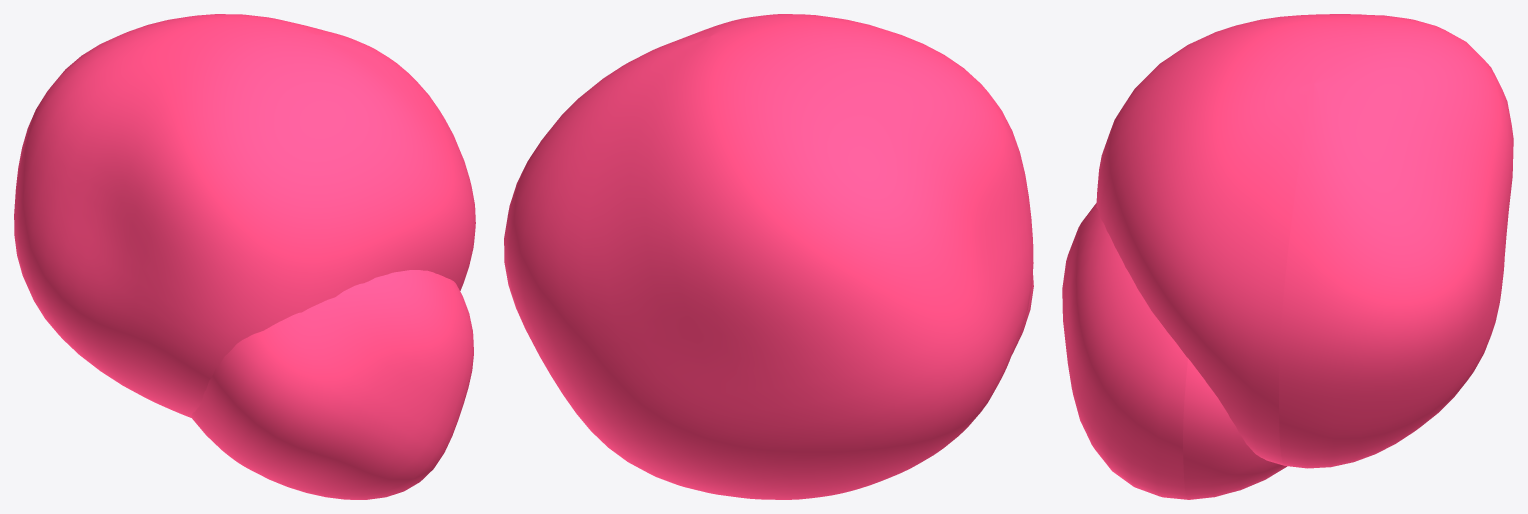
Rendered from LovenseOrb_Pink.dae.
3 renders of one model, left to right at view 1: azimuth 30°, elevation 25°; view 2: azimuth 150°, elevation 25°; view 3: azimuth 270°, elevation 25°, orthographic. The views are drawn at different scales.
Visible parts, largest first — view 1: Pink; view 2: Pink; view 3: Pink.
Part boxes in pixels (x1=…): Pink: x1=14, y1=14, x2=475, y2=499; Pink: x1=504, y1=14, x2=1033, y2=499; Pink: x1=1062, y1=14, x2=1513, y2=499.
Size of the model in its own units: 0.0386 by 0.0369 by 0.0387.
